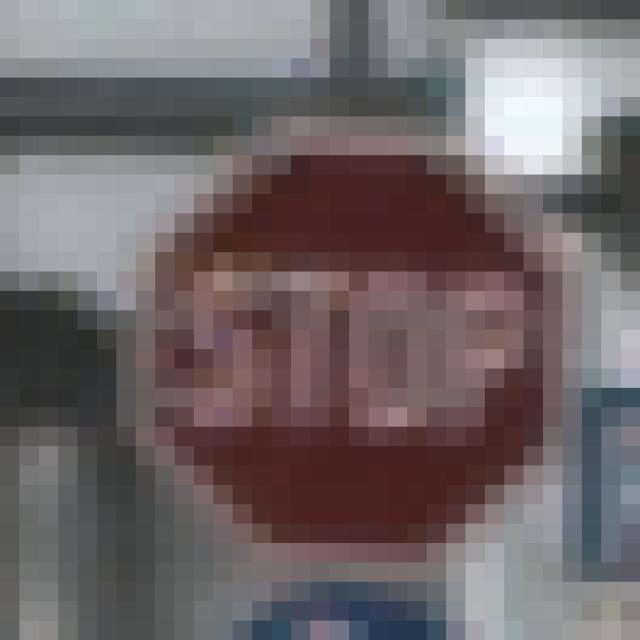STOP: (98, 98, 525, 544)
